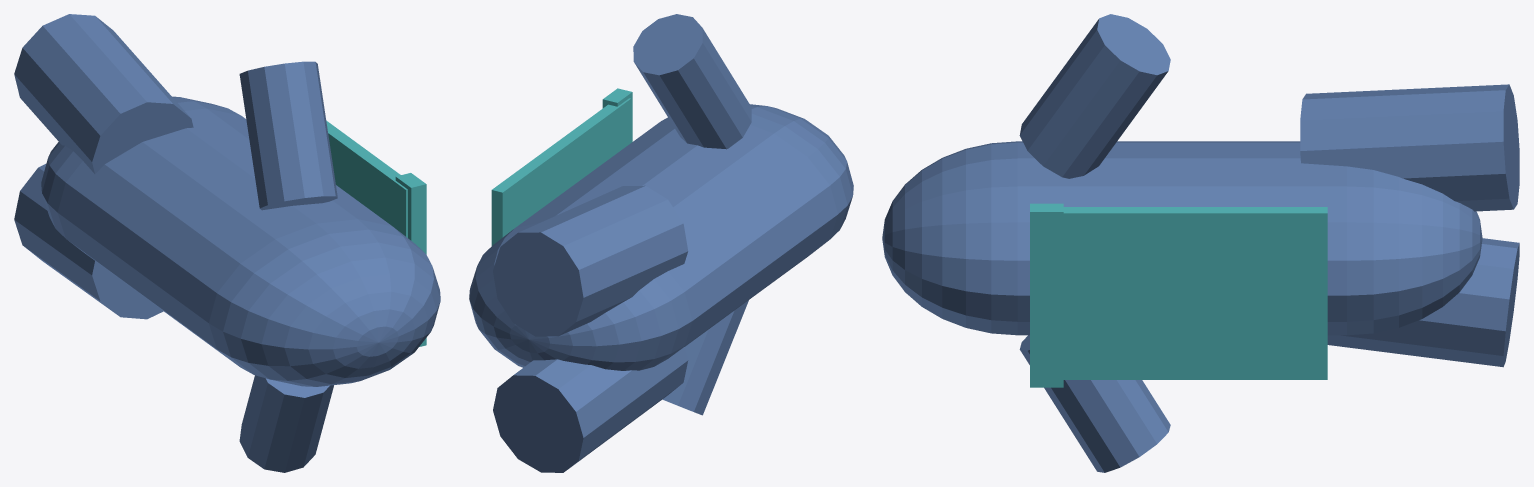
3 views of the same model, side by side, from view 1: azimuth 30°, elevation 25°; view 2: azimuth 150°, elevation 25°; view 3: azimuth 270°, elevation 25° (orthographic). The views are drawn at different scales.
Visible parts, largest first — view 1: geometry_0; view 2: geometry_0; view 3: geometry_0.
Part boxes in pixels (x1=…): geometry_0: x1=14, y1=14, x2=440, y2=472; geometry_0: x1=469, y1=14, x2=853, y2=472; geometry_0: x1=882, y1=14, x2=1519, y2=472.
Bounding box in the file's own units: 0.29 × 0.508 × 0.6584.
